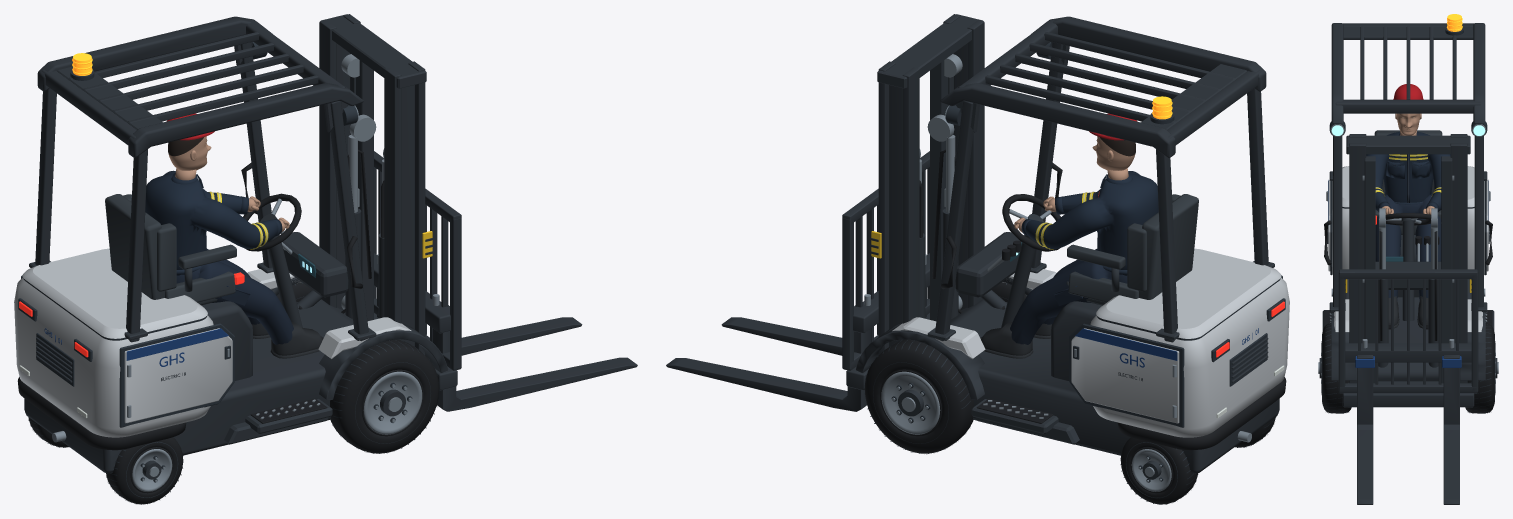
Rendered from manned_forklift_50k.fbx.
3 renders of one model, left to right at view 1: azimuth 30°, elevation 25°; view 2: azimuth 150°, elevation 25°; view 3: azimuth 270°, elevation 25°, orthographic. The views are drawn at different scales.
Parts seen in each view (by area): view 1: MF_V2_CastCounterweight, MF_V2_Chassis, MF_V2_BatteryHood, MF_V2_BatteryAccessPanel, MF_V2_Front_R_RoundedSolidTyre, DRV_WorkJacket, MF_V2_ShapedRoofRail, MF_OuterMastFlange, MF_V2_ShapedRoofRail.001, MF_V2_TaperedForgedFork, MF_OuterMastWeb, MF_OuterMastFlange.002 (+42 smaller); view 2: MF_V2_CastCounterweight, MF_V2_Chassis, MF_V2_BatteryHood, MF_V2_BatteryAccessPanel.001, MF_V2_Front_L_RoundedSolidTyre, DRV_WorkJacket, MF_V2_ShapedRoofRail.001, MF_OuterMastFlange.002, MF_V2_ShapedRoofRail, MF_V2_TaperedForgedFork.001, MF_OuterMastWeb.001, MF_OuterMastFlange (+42 smaller); view 3: MF_OuterMastFlange.001, MF_OuterMastFlange.003, DRV_WorkJacket, MF_V2_TaperedForgedFork, MF_V2_TaperedForgedFork.001, MF_InnerMastRail, MF_InnerMastRail.001, MF_CarriageCrossbar.001, MF_MastCrossmember.001, MF_V2_RoofHeader.001, MF_V2_Chassis, DRV_Trousers (+48 smaller).
Part boxes in pixels (box(x1,y1,x2,y2)): MF_V2_CastCounterweight: box(14, 277, 213, 437); MF_V2_Chassis: box(24, 299, 353, 473); MF_V2_BatteryHood: box(22, 248, 207, 338); MF_V2_BatteryAccessPanel: box(124, 328, 232, 423); MF_V2_Front_R_RoundedSolidTyre: box(330, 339, 439, 453); DRV_WorkJacket: box(145, 170, 278, 269); MF_V2_ShapedRoofRail: box(128, 83, 363, 157); MF_OuterMastFlange: box(384, 67, 401, 339); MF_V2_ShapedRoofRail.001: box(37, 16, 272, 91); MF_V2_TaperedForgedFork: box(432, 305, 637, 411); MF_OuterMastWeb: box(401, 85, 414, 346); MF_OuterMastFlange.002: box(319, 20, 336, 307); MF_V2_CastCounterweight: box(1090, 277, 1289, 437); MF_V2_Chassis: box(950, 299, 1279, 473); MF_V2_BatteryHood: box(1096, 248, 1281, 338); MF_V2_BatteryAccessPanel.001: box(1071, 328, 1179, 423); MF_V2_Front_L_RoundedSolidTyre: box(864, 339, 973, 453); DRV_WorkJacket: box(1025, 171, 1158, 269); MF_V2_ShapedRoofRail.001: box(940, 83, 1175, 157); MF_OuterMastFlange.002: box(902, 67, 919, 340); MF_V2_ShapedRoofRail: box(1031, 16, 1266, 91); MF_V2_TaperedForgedFork.001: box(666, 305, 871, 411); MF_OuterMastWeb.001: box(889, 85, 902, 346); MF_OuterMastFlange: box(967, 20, 984, 307); MF_OuterMastFlange.001: box(1349, 143, 1366, 383); MF_OuterMastFlange.003: box(1450, 143, 1467, 383); DRV_WorkJacket: box(1366, 132, 1450, 211); MF_V2_TaperedForgedFork: box(1357, 355, 1373, 504); MF_V2_TaperedForgedFork.001: box(1443, 355, 1459, 504); MF_InnerMastRail: box(1364, 156, 1375, 383); MF_InnerMastRail.001: box(1441, 156, 1452, 383); MF_CarriageCrossbar.001: box(1345, 343, 1471, 362); MF_MastCrossmember.001: box(1346, 135, 1470, 154); MF_V2_RoofHeader.001: box(1335, 99, 1481, 113); MF_V2_Chassis: box(1345, 279, 1471, 381); DRV_Trousers: box(1375, 194, 1441, 300).
Bounding box in the file's own units: 345 × 125 × 234.
